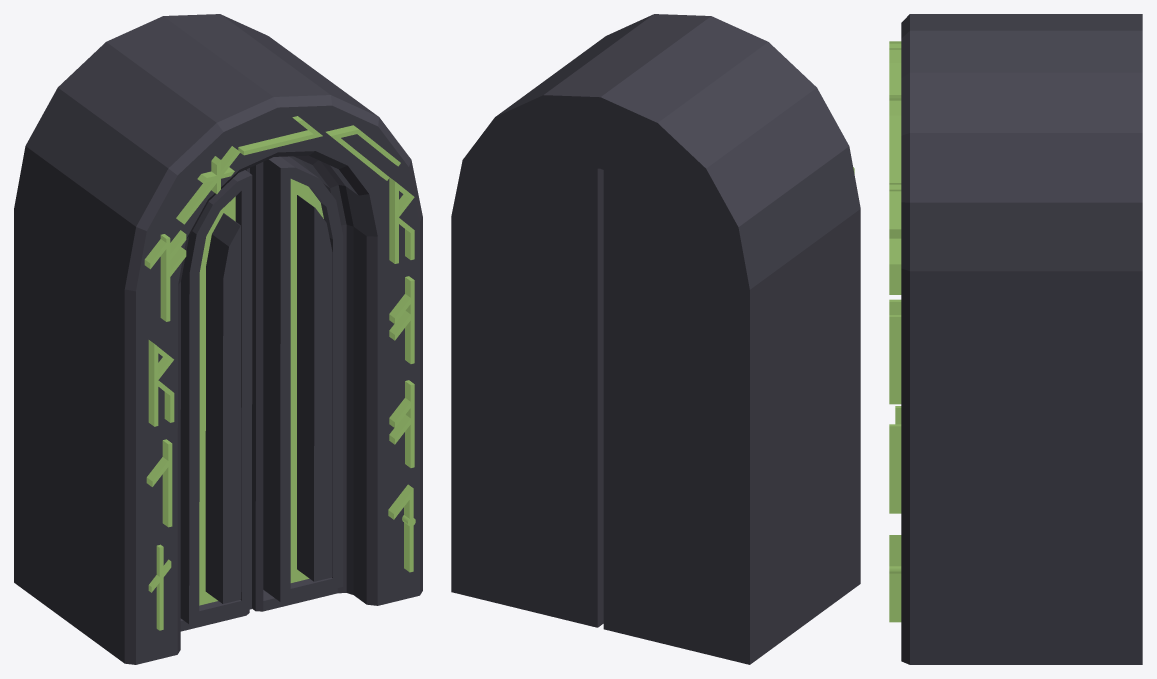
The model's file is plantdoor.glb.
3 views of the same model, side by side, from view 1: azimuth 30°, elevation 25°; view 2: azimuth 150°, elevation 25°; view 3: azimuth 270°, elevation 25° (orthographic). The views are drawn at different scales.
Visible parts, largest first — view 1: Cube.002, T.032; view 2: Cube.002; view 3: Cube.002, T.032.
Part boxes in pixels (<box>): Cube.002: <box>14,14,422,664</box>; T.032: <box>144,116,415,630</box>; Cube.002: <box>451,14,860,664</box>; Cube.002: <box>901,14,1142,664</box>; T.032: <box>889,41,901,622</box>.
Bounding box in the file's own units: 3 × 5.1 × 2.1.
Materials: 2 (2 with a texture image).
